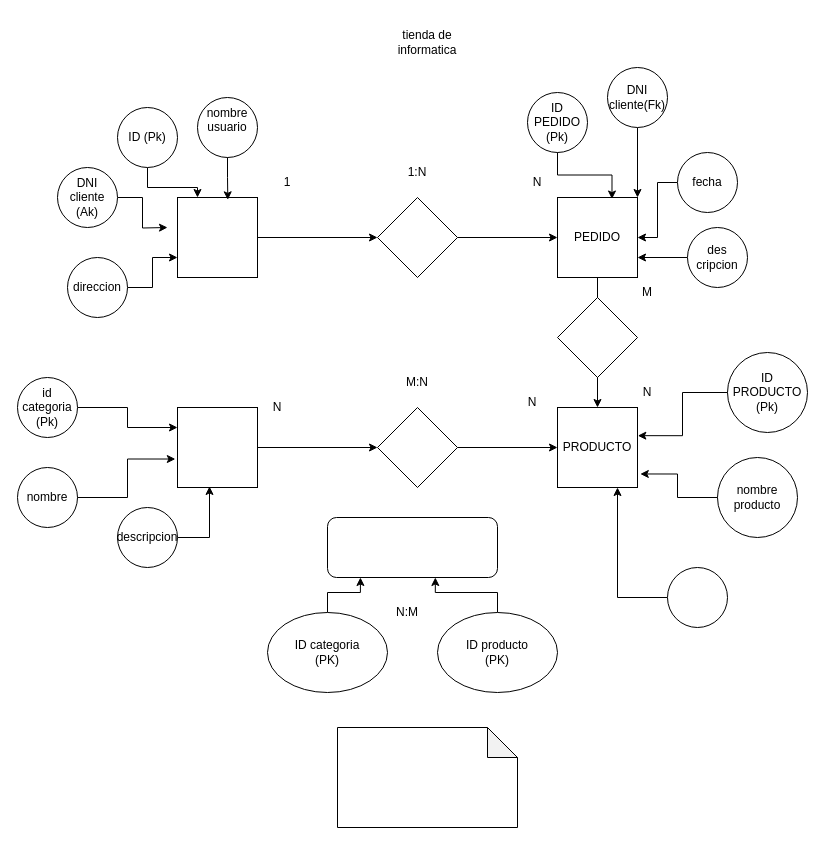
The diagram is 825 pixels wide and 845 high, and some of its shapes have lost their labels. The centre of each missing label's shape, as x and y in pixels:
"CATEGORIA" goes at point 217,447.
"CATEGORIA_PRODUCTO" goes at point 412,547.
"CLIENTE" goes at point 217,237.
"CONTIENE" goes at point 597,337.
"id categoria (Fk)" goes at point 697,597.
"PERTENECE" goes at point 417,447.
"REALIZA" goes at point 417,237.
"UN PRODUCTO PODRIA PERTENECER A MAS D EUNA CATEGORIA" goes at point 427,777.
